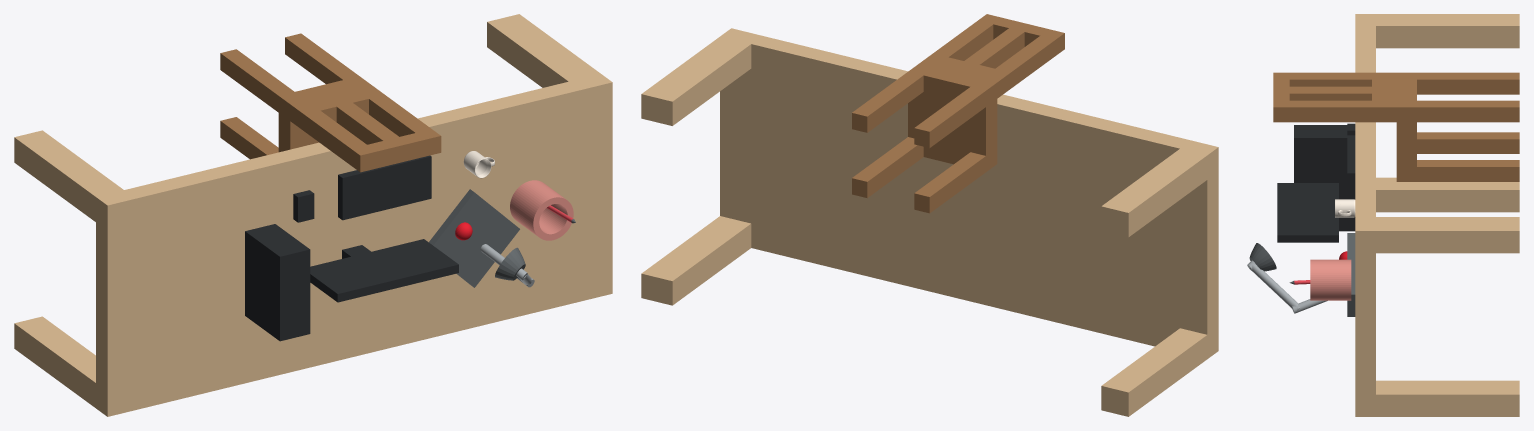
The model's file is tinker.obj.
3 views of the same model, side by side, from view 1: azimuth 30°, elevation 25°; view 2: azimuth 150°, elevation 25°; view 3: azimuth 270°, elevation 25° (orthographic). The views are drawn at different scales.
Visible parts, largest first — view 1: group_0_14860437, group_0_2829873, group_0_11107152, group_0_6383466, group_0_15308428, group_0_16774632; view 2: group_0_14860437, group_0_11107152; view 3: group_0_14860437, group_0_11107152, group_0_2829873, group_0_15308428, group_0_6383466, group_0_10988977, group_0_16774632.
Part boxes in pixels (x1,y1,x2,y2): group_0_14860437: (14, 14, 612, 416); group_0_2829873: (245, 155, 458, 341); group_0_11107152: (220, 33, 441, 172); group_0_6383466: (429, 189, 575, 287); group_0_15308428: (510, 180, 573, 240); group_0_16774632: (463, 151, 494, 178); group_0_14860437: (641, 28, 1218, 416); group_0_11107152: (852, 14, 1064, 213); group_0_14860437: (1355, 14, 1519, 416); group_0_11107152: (1273, 72, 1519, 181); group_0_2829873: (1277, 123, 1355, 242); group_0_15308428: (1310, 259, 1351, 300); group_0_6383466: (1249, 233, 1355, 316); group_0_10988977: (1247, 260, 1327, 313); group_0_16774632: (1335, 199, 1355, 217).
Bounding box in the file's own units: 125 × 58 × 66.36.
